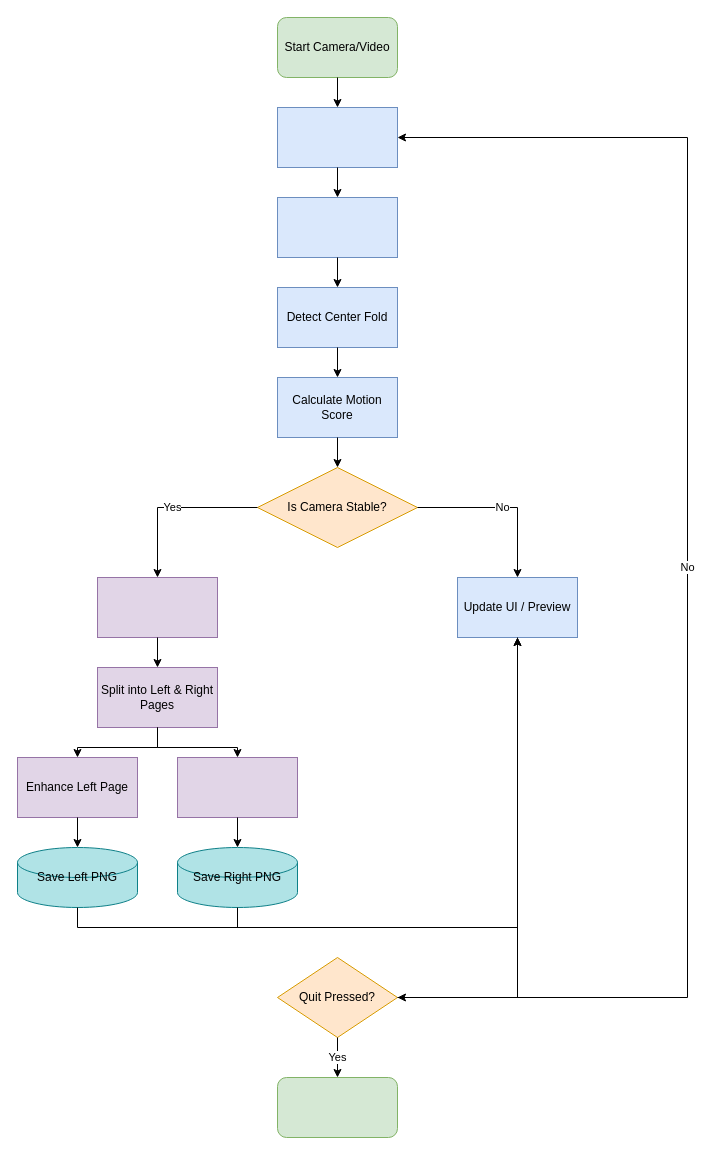
The diagram is 713 pixels wide and 1155 high, and some of its shapes have lost their labels. Each missing label, with the centre of its shape:
"Detect Book Boundary" goes at pixel 337 227.
"End Program" goes at pixel 337 1107.
"Enhance Right Page" goes at pixel 237 787.
"Read Frame" goes at pixel 337 137.
"Trigger Auto-Capture" goes at pixel 157 607.
